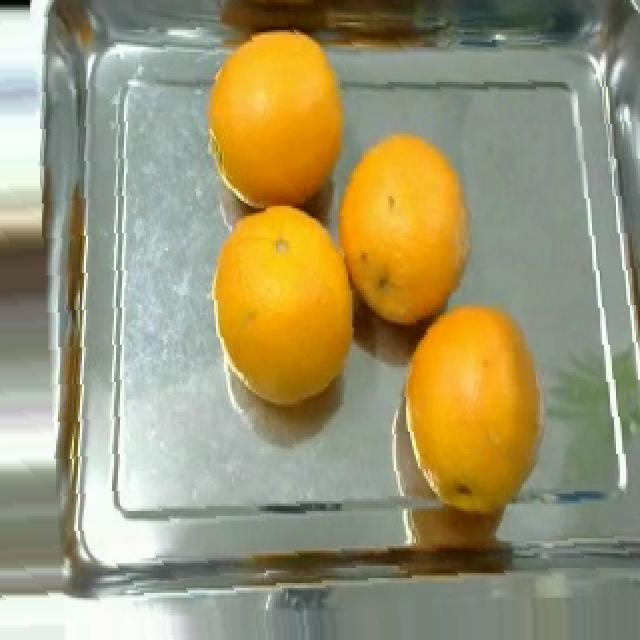Good_Orange: (404, 305, 544, 518), (210, 206, 356, 409), (336, 134, 474, 332), (206, 30, 346, 211)
